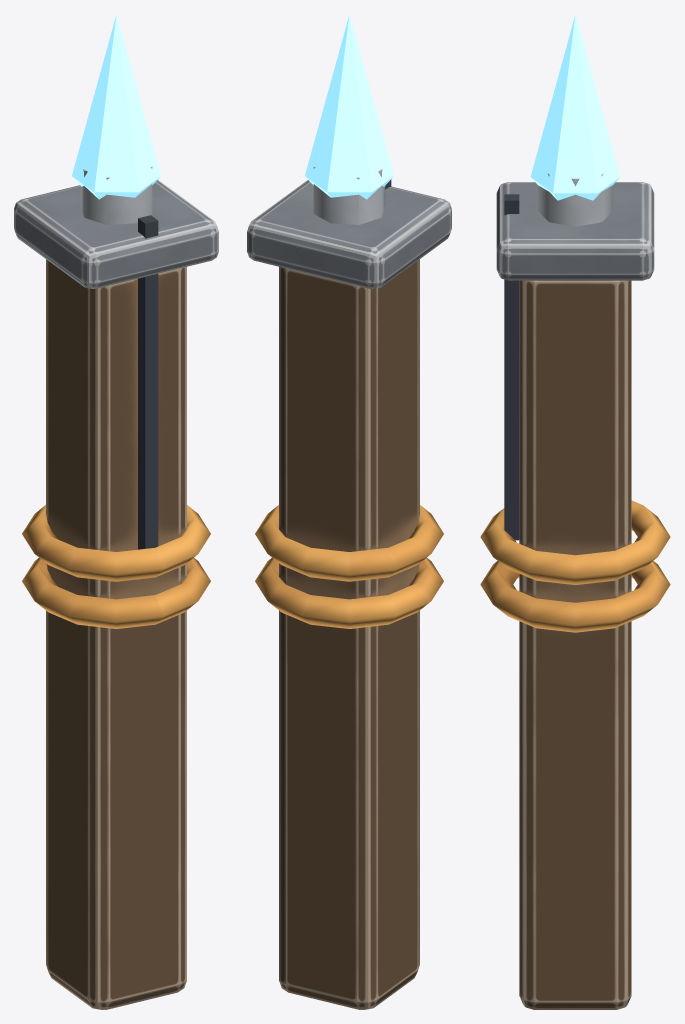
File: fence_post_painted.glb
The picture shows the model from 3 angles, left to right: view 1: azimuth 30°, elevation 25°; view 2: azimuth 150°, elevation 25°; view 3: azimuth 270°, elevation 25°; orthographic projection.
Parts seen in each view (by area): view 1: FencePost; view 2: FencePost; view 3: FencePost.
Boxes of the visible parts, bbox=[...] form: FencePost: bbox=[14, 14, 218, 1009]; FencePost: bbox=[247, 14, 451, 1009]; FencePost: bbox=[480, 14, 670, 1009].
Size of the model in its own units: 0.254 by 1.44 by 0.254.
6 materials, 4 textured.
